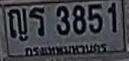1: (107, 2, 115, 32)
3: (56, 5, 69, 34)
5: (87, 2, 102, 32)
8: (72, 4, 85, 34)
A13: (8, 8, 27, 36)
A35: (28, 7, 44, 35)
BKK: (22, 42, 109, 56)
